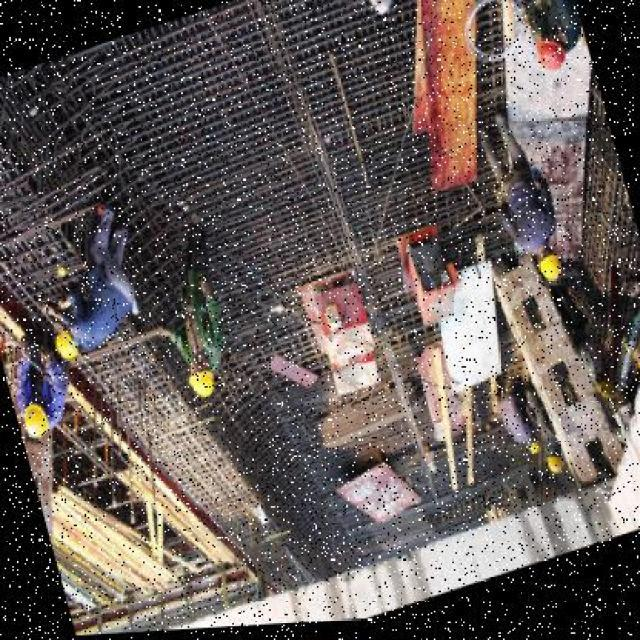helmet: (14, 396, 52, 444), (183, 362, 220, 407), (531, 40, 568, 78), (534, 255, 565, 291), (48, 330, 79, 359)
